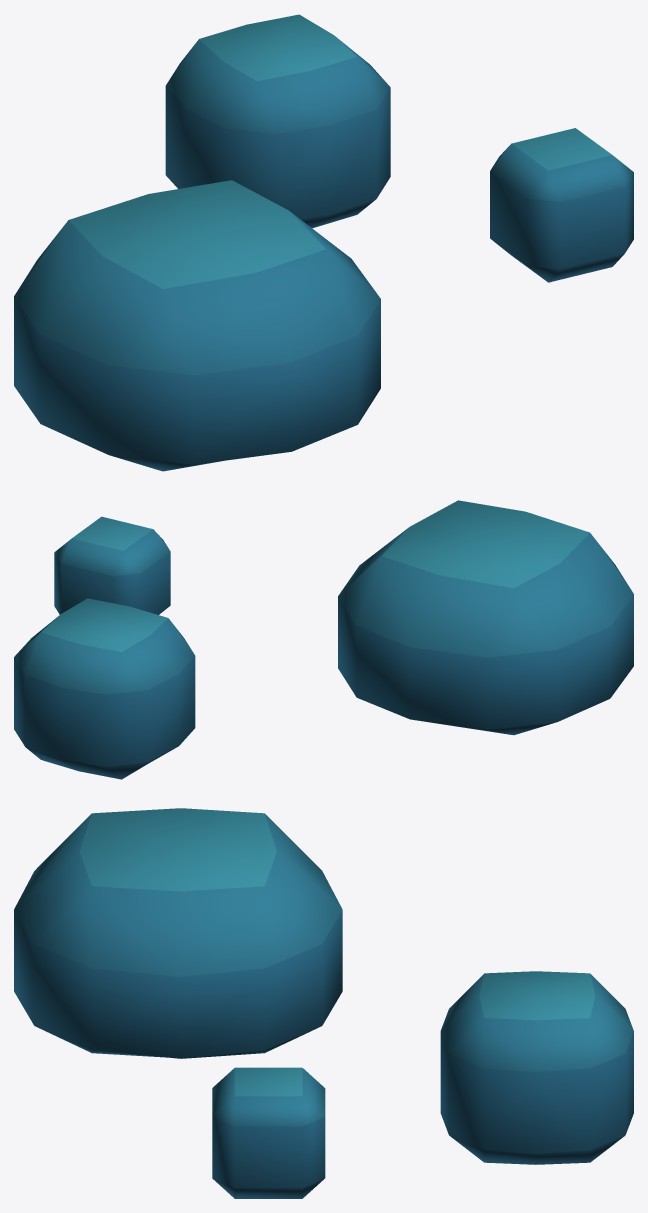
File: Pebbles_Ice_3.fbx
The picture shows the model from 3 angles, top to bottom: view 1: azimuth 30°, elevation 25°; view 2: azimuth 150°, elevation 25°; view 3: azimuth 270°, elevation 25°; orthographic projection. The views are drawn at different scales.
Visible parts, largest first — view 1: Pebbles_Ice_3_LOD0; view 2: Pebbles_Ice_3_LOD0; view 3: Pebbles_Ice_3_LOD0.
Boxes of the visible parts, box(x1,y1,x2,y2) form: Pebbles_Ice_3_LOD0: box(14, 14, 633, 471); Pebbles_Ice_3_LOD0: box(14, 500, 633, 779); Pebbles_Ice_3_LOD0: box(14, 808, 633, 1198).
Size of what is drawn, in the model's own units: 0.6555 by 0.1834 by 0.6175.
